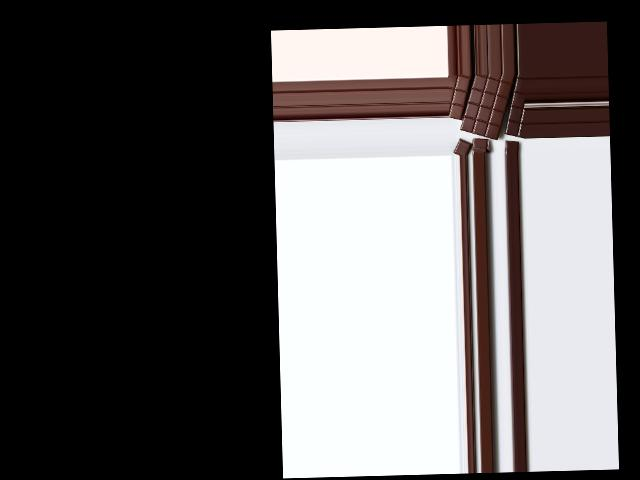chocolate: (457, 72, 514, 140)
